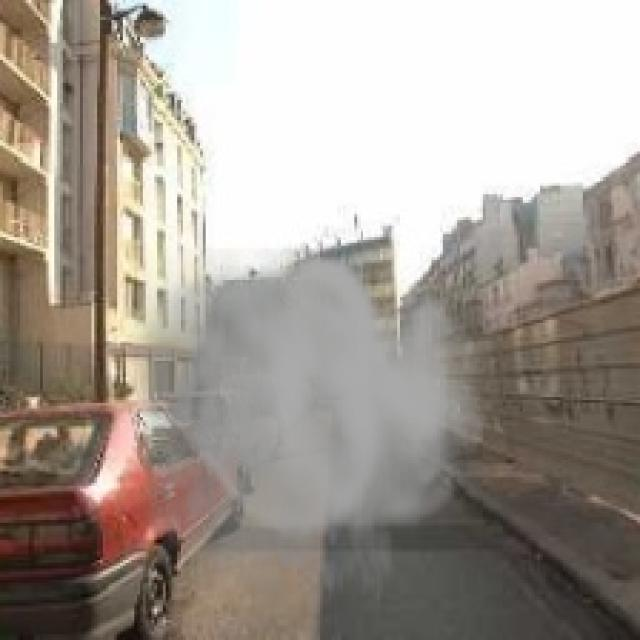Smoke: (117, 248, 489, 638)
